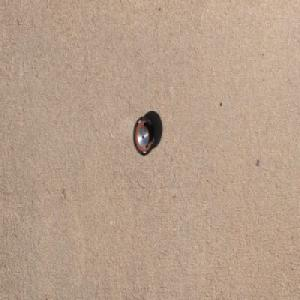FuelCap: (132, 114, 155, 157)
